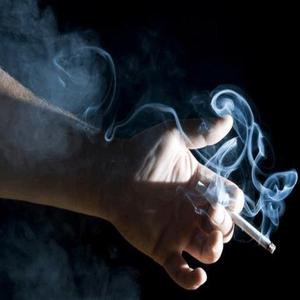cigarette: (197, 180, 278, 255)
